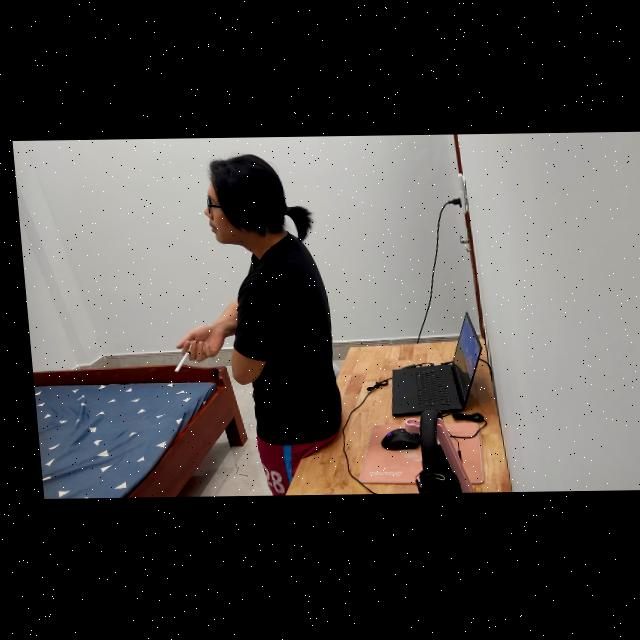cigarette: (166, 351, 185, 374)
